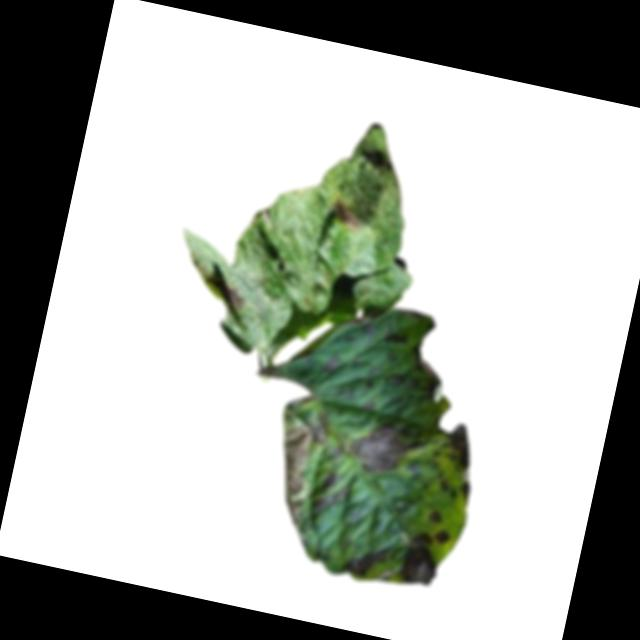Early_blight: (259, 403, 332, 532), (339, 409, 426, 481), (392, 526, 444, 588), (431, 419, 477, 476), (338, 536, 391, 584), (312, 468, 352, 521), (323, 192, 366, 233), (439, 474, 475, 504), (221, 283, 248, 311), (381, 327, 411, 348), (319, 352, 340, 376), (426, 507, 444, 525), (432, 526, 450, 544)
